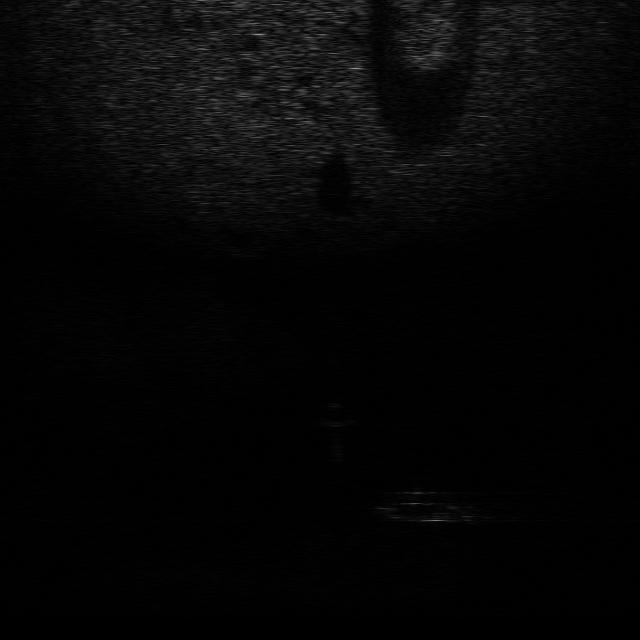ball: (308, 401, 362, 428)
tyre: (371, 485, 480, 525)
